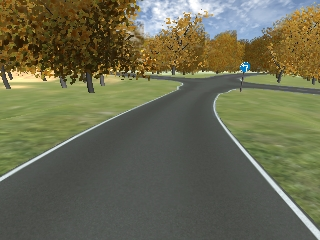left: (239, 63, 249, 71)
